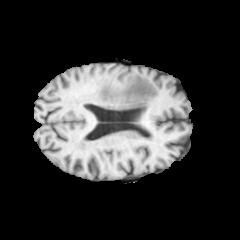glioma: (96, 74, 157, 108)
